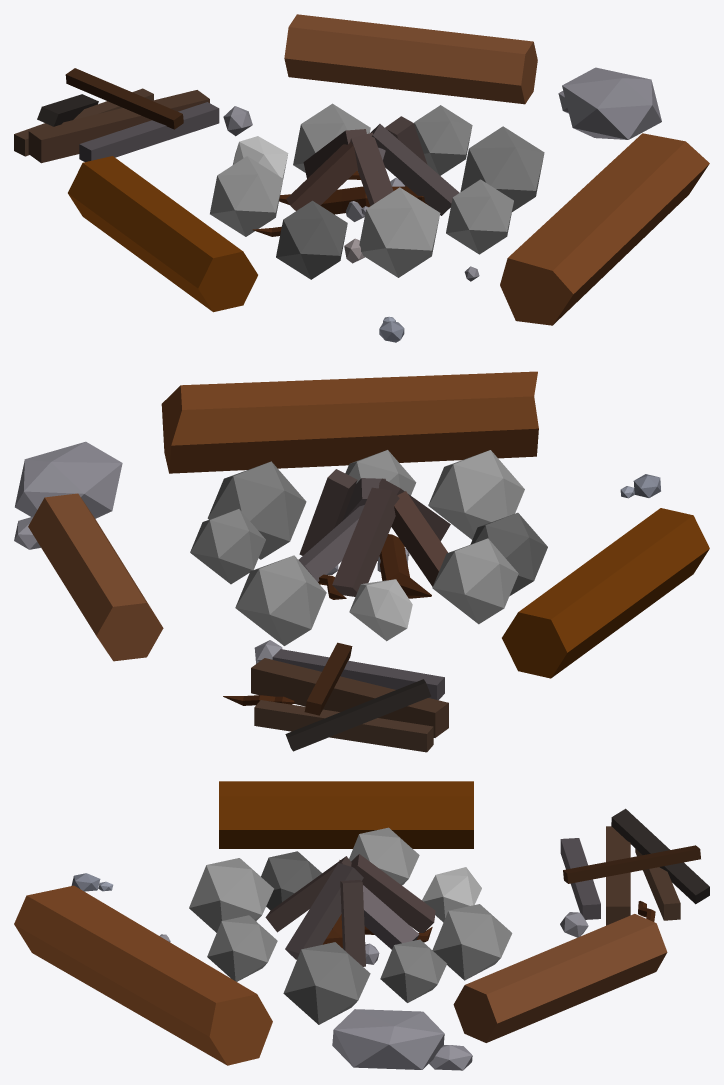
Rendered from firecamp.fbx.
3 views of the same model, one above another, from view 1: azimuth 30°, elevation 25°; view 2: azimuth 150°, elevation 25°; view 3: azimuth 270°, elevation 25° (orthographic). The views are drawn at different scales.
Visible parts, largest first — view 1: Cylindre.003, Cylindre.002, Cylindre.001, Icosphère.017, Icosphère, Icosphère.002, Icosphère.006, Icosphère.005, Cube.006, Icosphère.001, Cube.009, Cube.004 (+12 smaller); view 2: Cylindre.003, Cylindre.001, Cylindre.002, Icosphère.017, Icosphère, Icosphère.004, Cube.006, Icosphère.002, Icosphère.006, Cube.007, Icosphère.003, Cube.003 (+12 smaller); view 3: Cylindre.003, Cylindre.001, Cylindre.002, Icosphère.017, Icosphère.002, Icosphère, Icosphère.004, Icosphère.001, Icosphère.003, Cube.004, Cube.003, Cube.008 (+12 smaller).
Part boxes in pixels (left/top/right/bottom): Cylindre.003: left=500, top=133, right=709, bottom=325; Cylindre.002: left=284, top=14, right=537, bottom=104; Cylindre.001: left=68, top=156, right=257, bottom=312; Icosphère.017: left=562, top=67, right=661, bottom=139; Icosphère: left=359, top=187, right=440, bottom=277; Icosphère.002: left=460, top=126, right=544, bottom=211; Icosphère.006: left=210, top=156, right=283, bottom=236; Icosphère.005: left=276, top=200, right=347, bottom=279; Cube.006: left=28, top=90, right=209, bottom=163; Icosphère.001: left=446, top=179, right=513, bottom=254; Cube.009: left=79, top=102, right=219, bottom=161; Cube.004: left=370, top=124, right=459, bottom=215; Cylindre.003: left=161, top=371, right=538, bottom=473; Cylindre.001: left=502, top=508, right=709, bottom=678; Cylindre.002: left=28, top=493, right=163, bottom=661; Icosphère.017: left=15, top=441, right=122, bottom=518; Icosphère: left=428, top=450, right=524, bottom=539; Icosphère.004: left=235, top=555, right=326, bottom=645; Cube.006: left=251, top=658, right=448, bottom=737; Icosphère.002: left=207, top=461, right=306, bottom=559; Icosphère.006: left=432, top=538, right=518, bottom=624; Cube.007: left=254, top=700, right=433, bottom=752; Icosphère.003: left=190, top=509, right=265, bottom=584; Cube.003: left=332, top=487, right=399, bottom=596; Cylindre.003: left=14, top=885, right=272, bottom=1065; Cylindre.001: left=219, top=781, right=473, bottom=848; Cylindre.002: left=453, top=914, right=667, bottom=1042; Icosphère.017: left=332, top=1009, right=444, bottom=1069; Icosphère.002: left=283, top=942, right=370, bottom=1024; Icosphère: left=189, top=858, right=273, bottom=932; Icosphère.004: left=432, top=904, right=512, bottom=980; Icosphère.001: left=207, top=915, right=277, bottom=981; Icosphère.003: left=380, top=939, right=446, bottom=1002; Cube.004: left=285, top=863, right=363, bottom=959; Cube.003: left=351, top=854, right=435, bottom=932; Cube.008: left=611, top=808, right=709, bottom=904.
Bounding box in the file's own units: 221 × 40.62 × 253.
